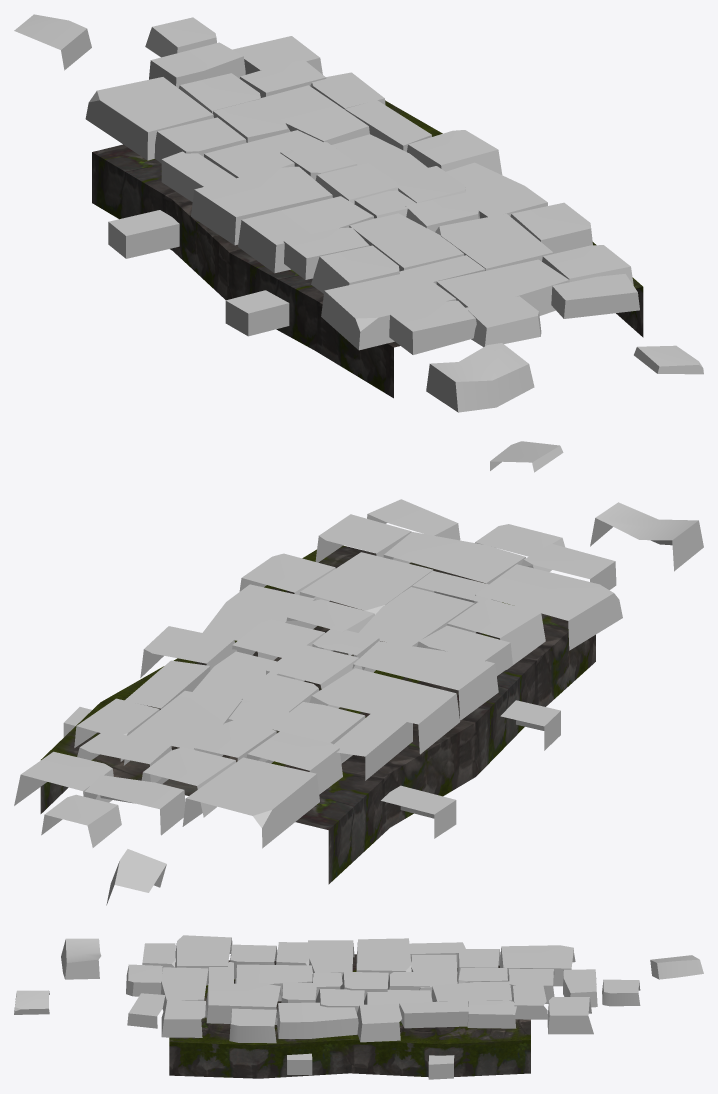
File: common_husong_shiqiao.FBX
3 views of the same model, one above another, from view 1: azimuth 30°, elevation 25°; view 2: azimuth 150°, elevation 25°; view 3: azimuth 270°, elevation 25° (orthographic). The views are drawn at different scales.
Visible parts, largest first — view 1: common_husong_shiqiao; view 2: common_husong_shiqiao; view 3: common_husong_shiqiao.
Boxes of the visible parts, <box> form: common_husong_shiqiao: <box>14,14,703,412</box>; common_husong_shiqiao: <box>14,441,703,905</box>; common_husong_shiqiao: <box>14,935,703,1079</box>.
Bounding box in the file's own units: 15.35 × 3.41 × 39.66.
